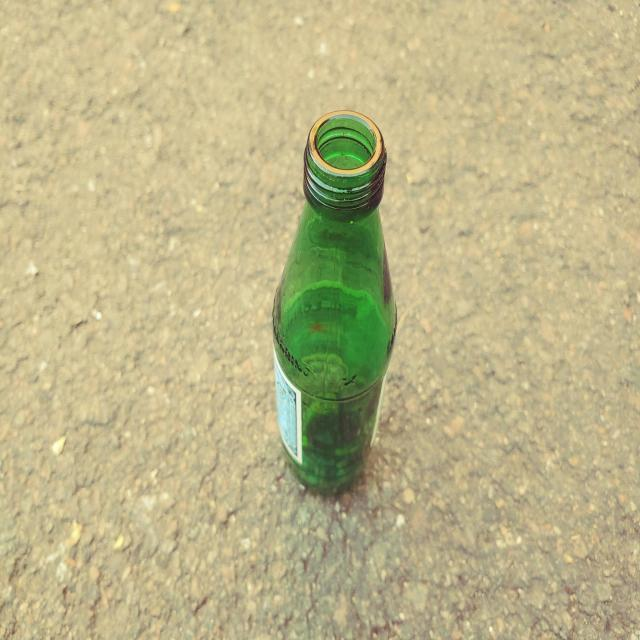glass: (273, 109, 397, 494)
